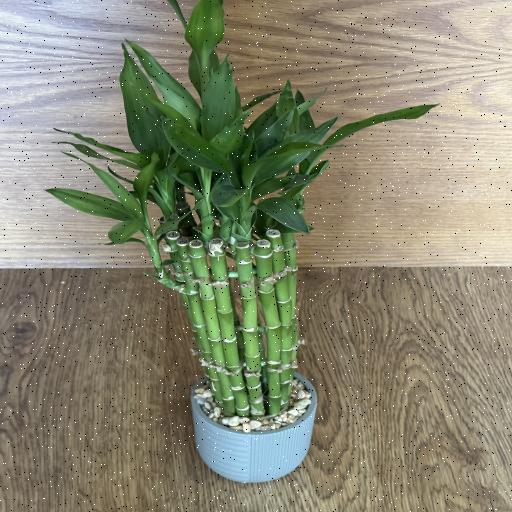Plant Pot: (188, 365, 325, 480)
